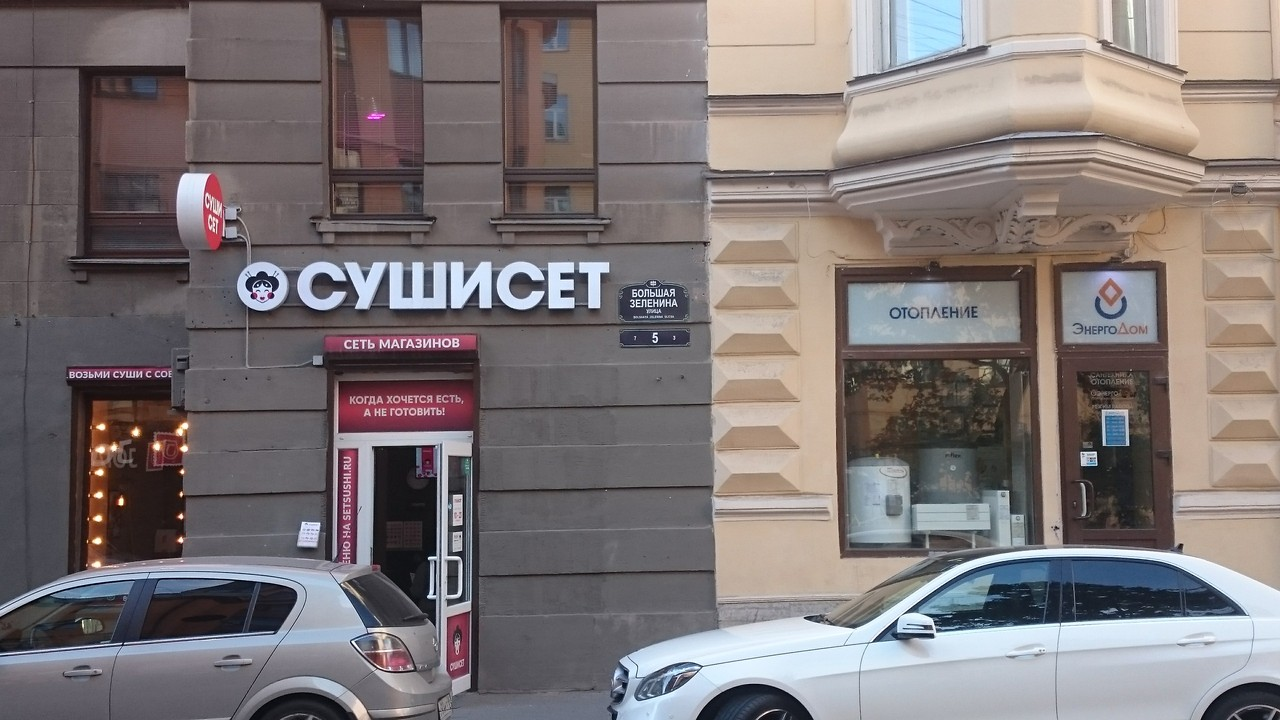cantilever: (174, 169, 236, 250)
door: (371, 440, 473, 702), (1060, 359, 1170, 551)
signboard: (237, 263, 611, 316)
window: (836, 262, 1033, 547), (500, 13, 596, 215), (87, 70, 187, 254), (332, 14, 421, 219), (82, 393, 181, 563)
